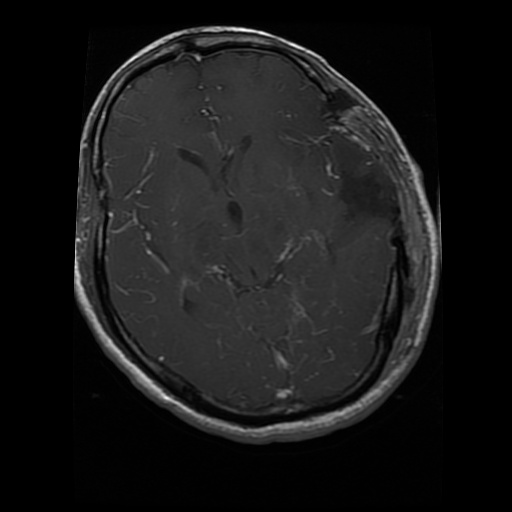glioma: (317, 126, 399, 233)
